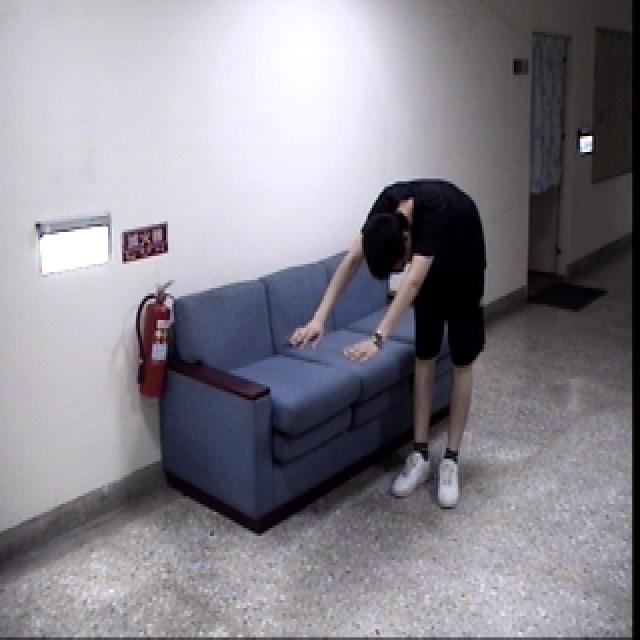bend: (280, 167, 495, 513)
